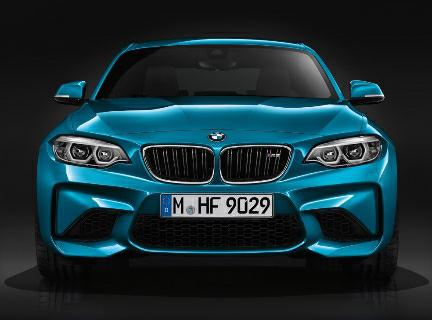宝马-M2: (23, 26, 406, 282)
